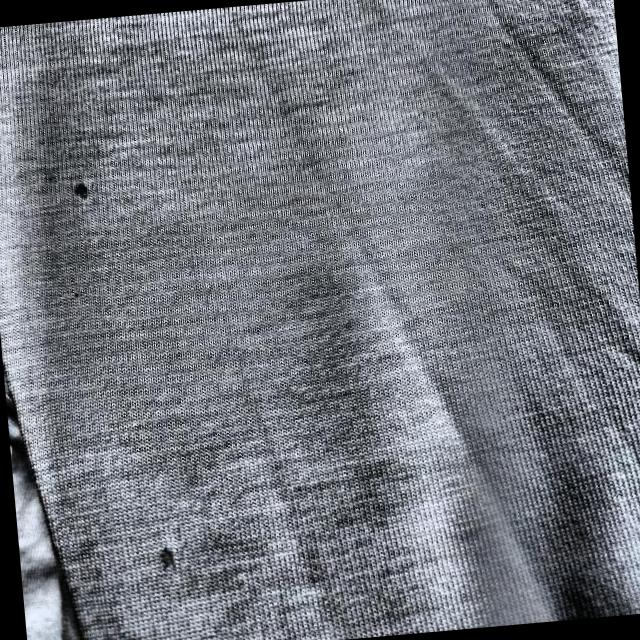cut: (151, 540, 192, 582), (61, 171, 100, 208)
